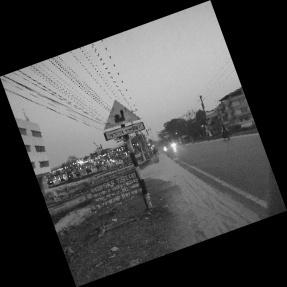Mosque in front: (105, 99, 146, 144)
